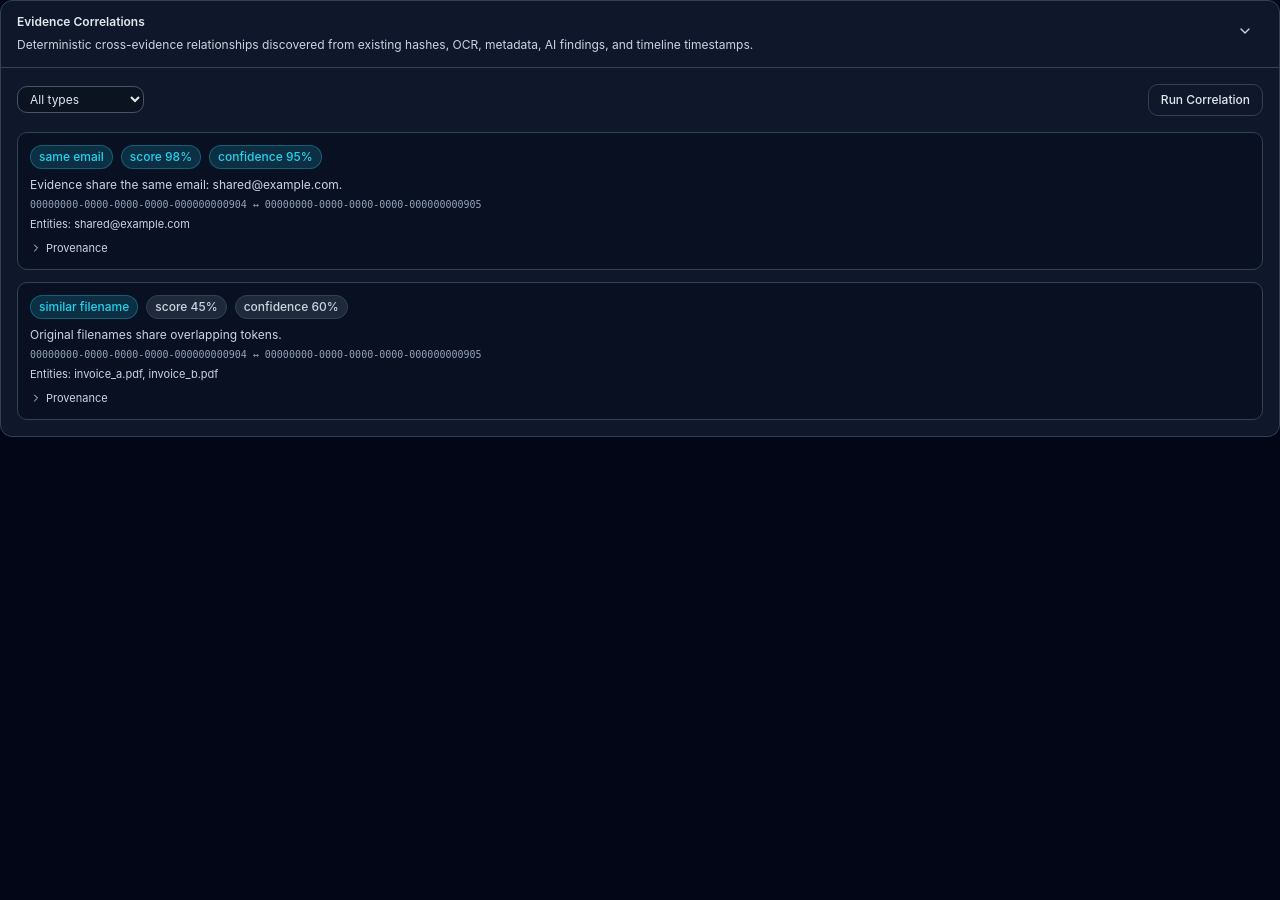
it: Phase 7B EvidenceCorrelationPanel › expands provenance details
Click the button "Provenance" below "98" at (69, 248), box [30,240,108,256]
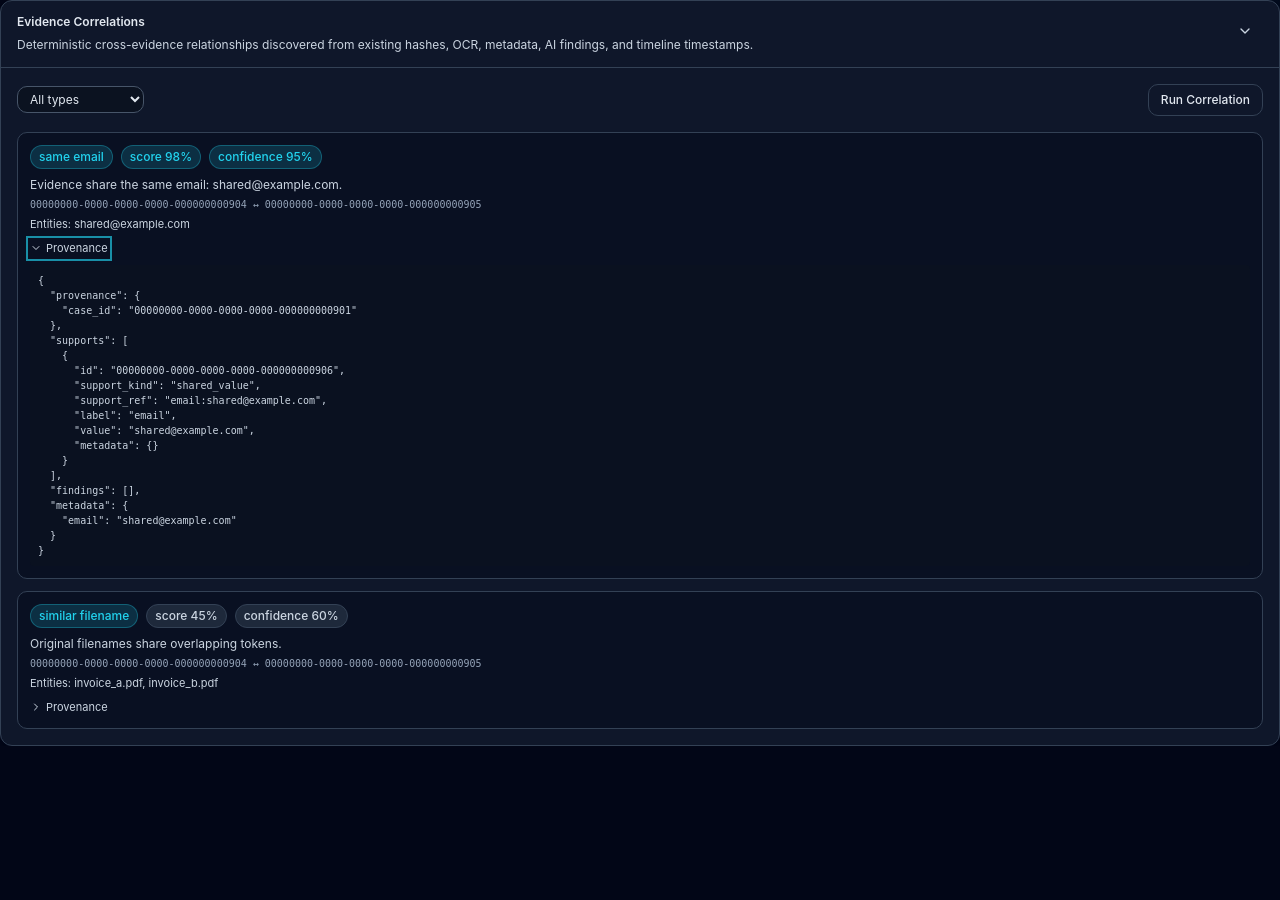
Expected: the text "shared_value" is shown, [38,274,357,556]
